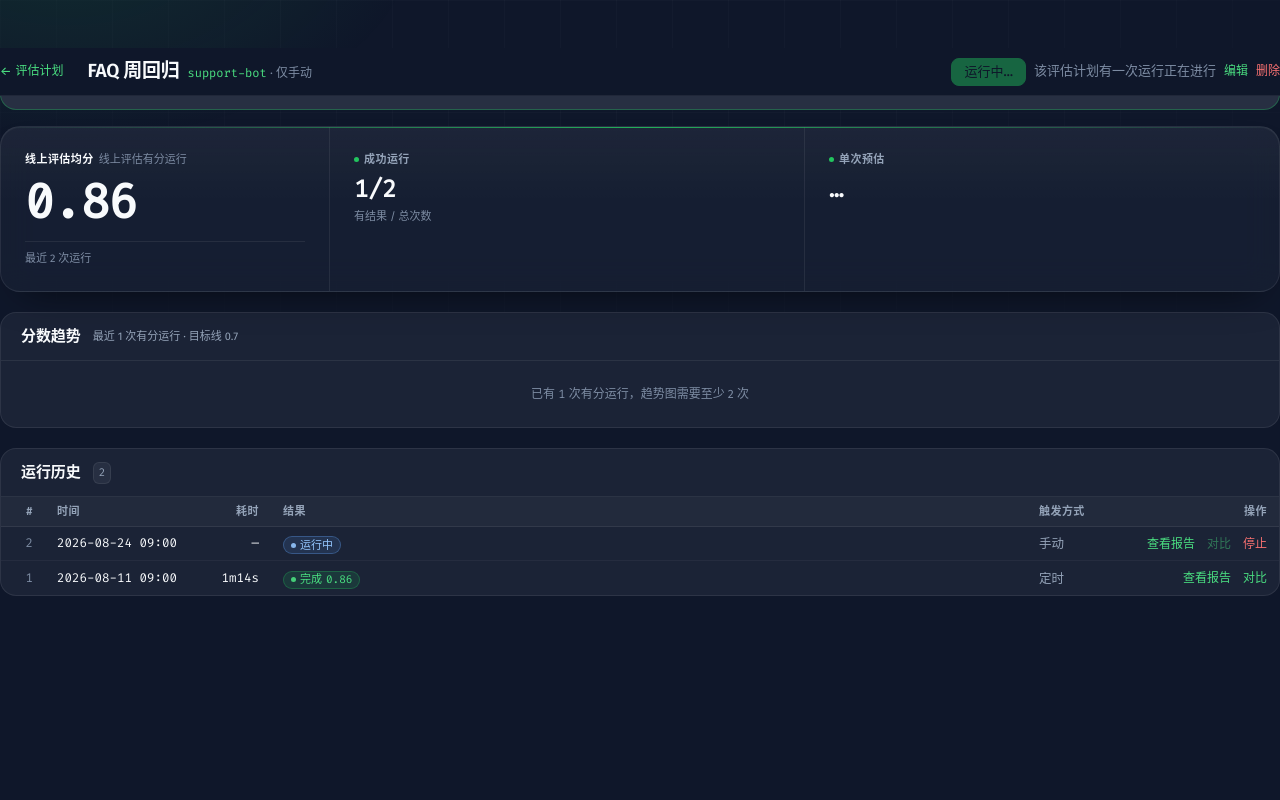
Test case: 停止的二次确认 › 卡上三句如实说明：费用不退、已完成环节保留、下一个检查点生效
Expected: the table with test id "plan-runs-table" is shown, [1,498,1279,596]
Click the button "停止" at [1255, 544], box [1243,536,1267,552]
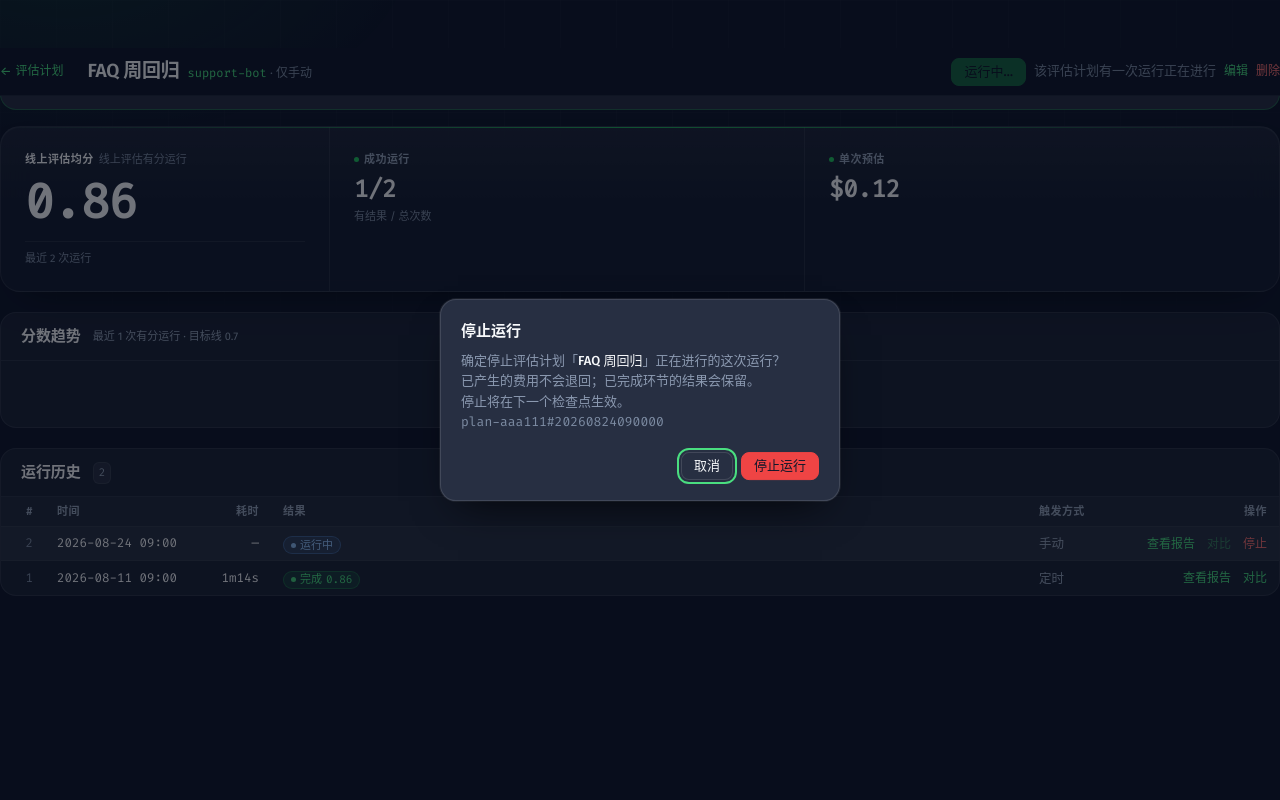
Expected: the dialog with test id "confirm-card" shows "已产生的费用不会退回", [461,374,760,388]
Expected: the dialog with test id "confirm-card" shows "已完成环节的结果会保留", [461,374,760,388]
Expected: the dialog with test id "confirm-card" shows "下一个检查点", [461,394,630,409]
